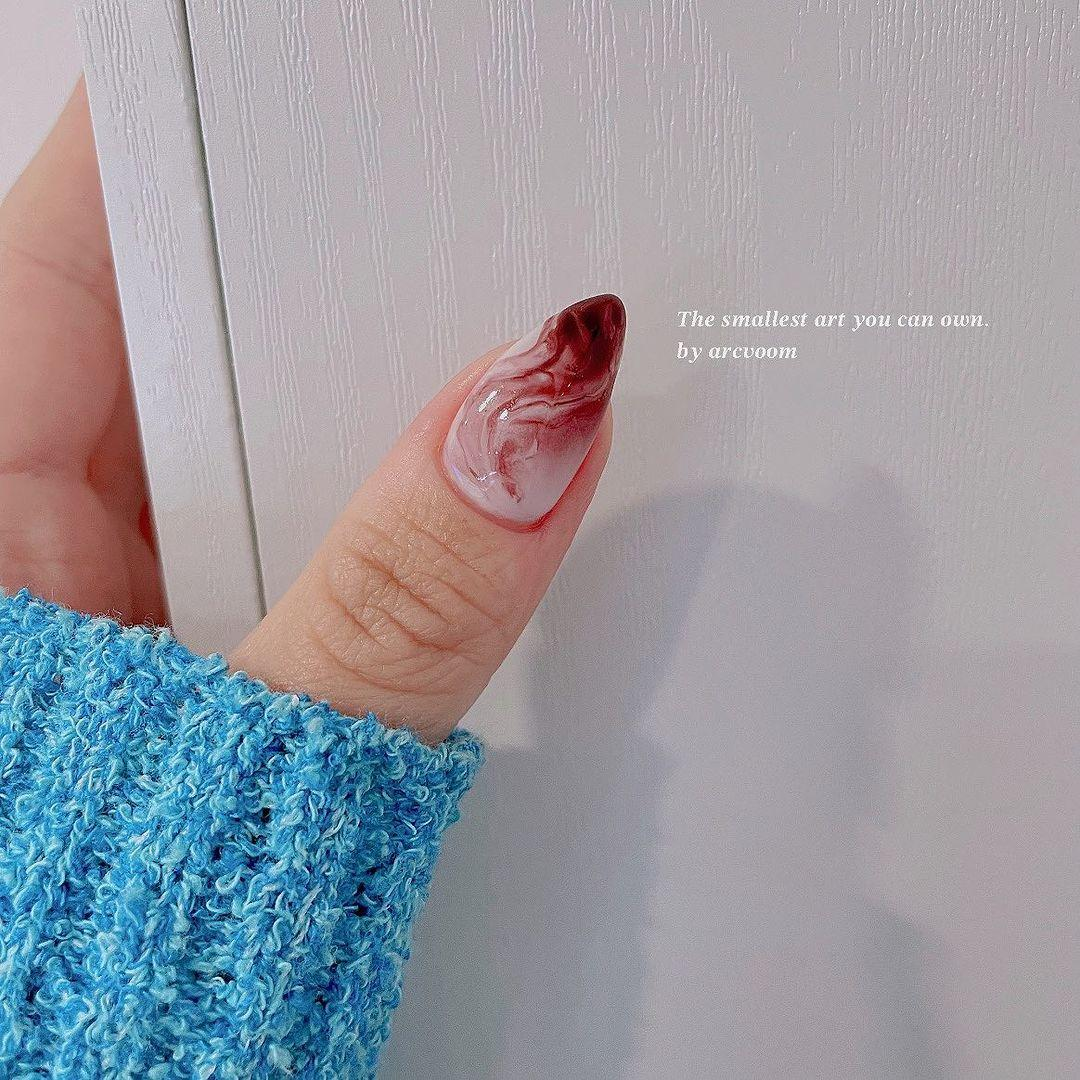nail: (438, 290, 627, 528)
